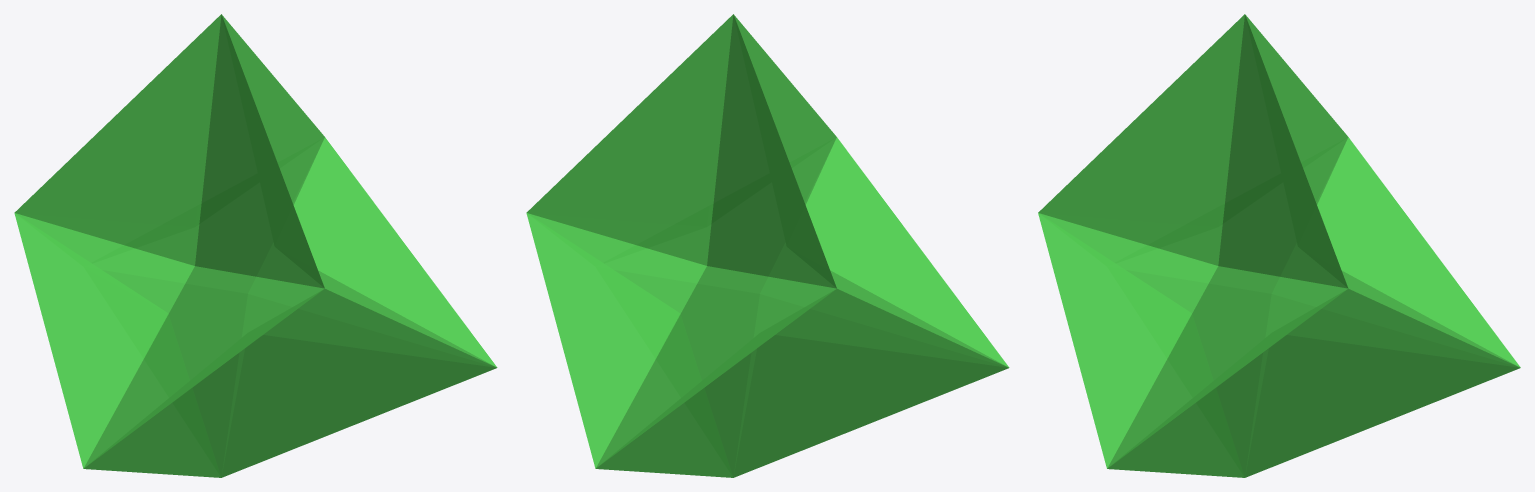
Rendered from HexakisTetrahedron_n2.obj.
3 renders of one model, left to right at view 1: azimuth 30°, elevation 25°; view 2: azimuth 150°, elevation 25°; view 3: azimuth 270°, elevation 25°, orthographic.
Bounding box in the file's own units: 10.4 × 11.13 × 10.5.
